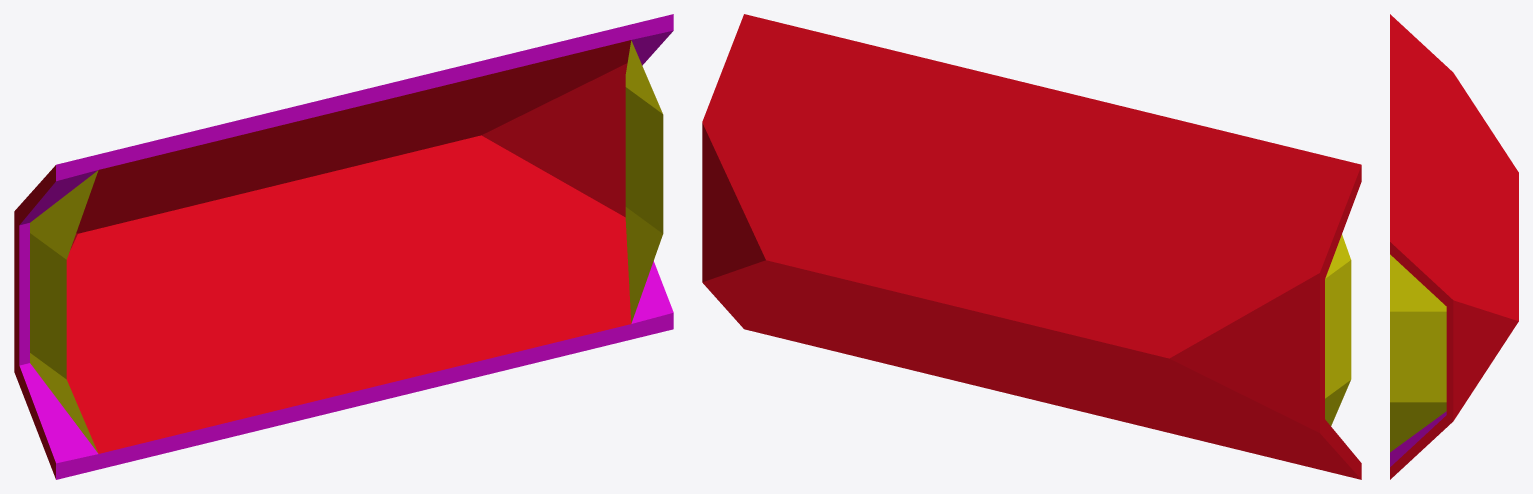
File: Barn_Top.fbx
3 views of the same model, side by side, from view 1: azimuth 30°, elevation 25°; view 2: azimuth 150°, elevation 25°; view 3: azimuth 270°, elevation 25° (orthographic). The views are drawn at different scales.
Visible parts, largest first — view 1: Plane.000; view 2: Plane.000; view 3: Plane.000.
Boxes of the visible parts, x1,y1,x2,y2 form: Plane.000: (14, 14, 673, 479); Plane.000: (702, 14, 1361, 479); Plane.000: (1390, 14, 1518, 479).
Size of the model in its own units: 2352 by 1147 by 562.
